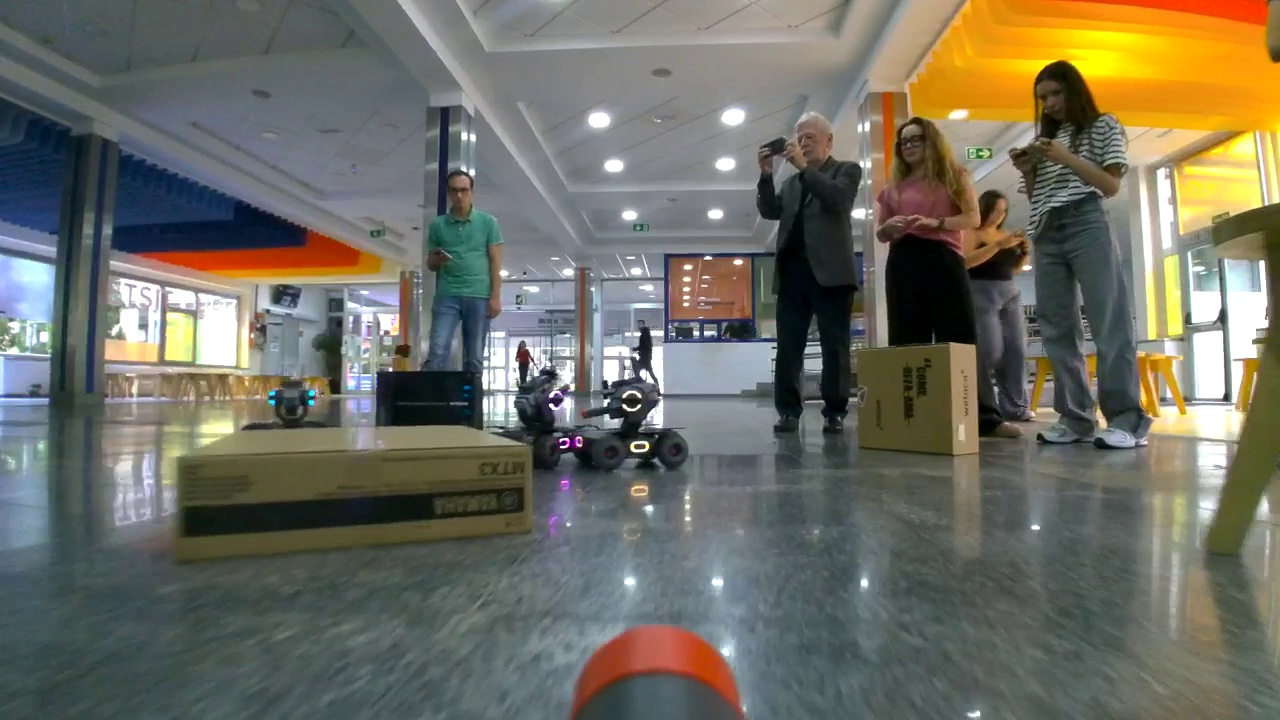robot: (581, 375, 688, 470), (512, 377, 583, 464)
